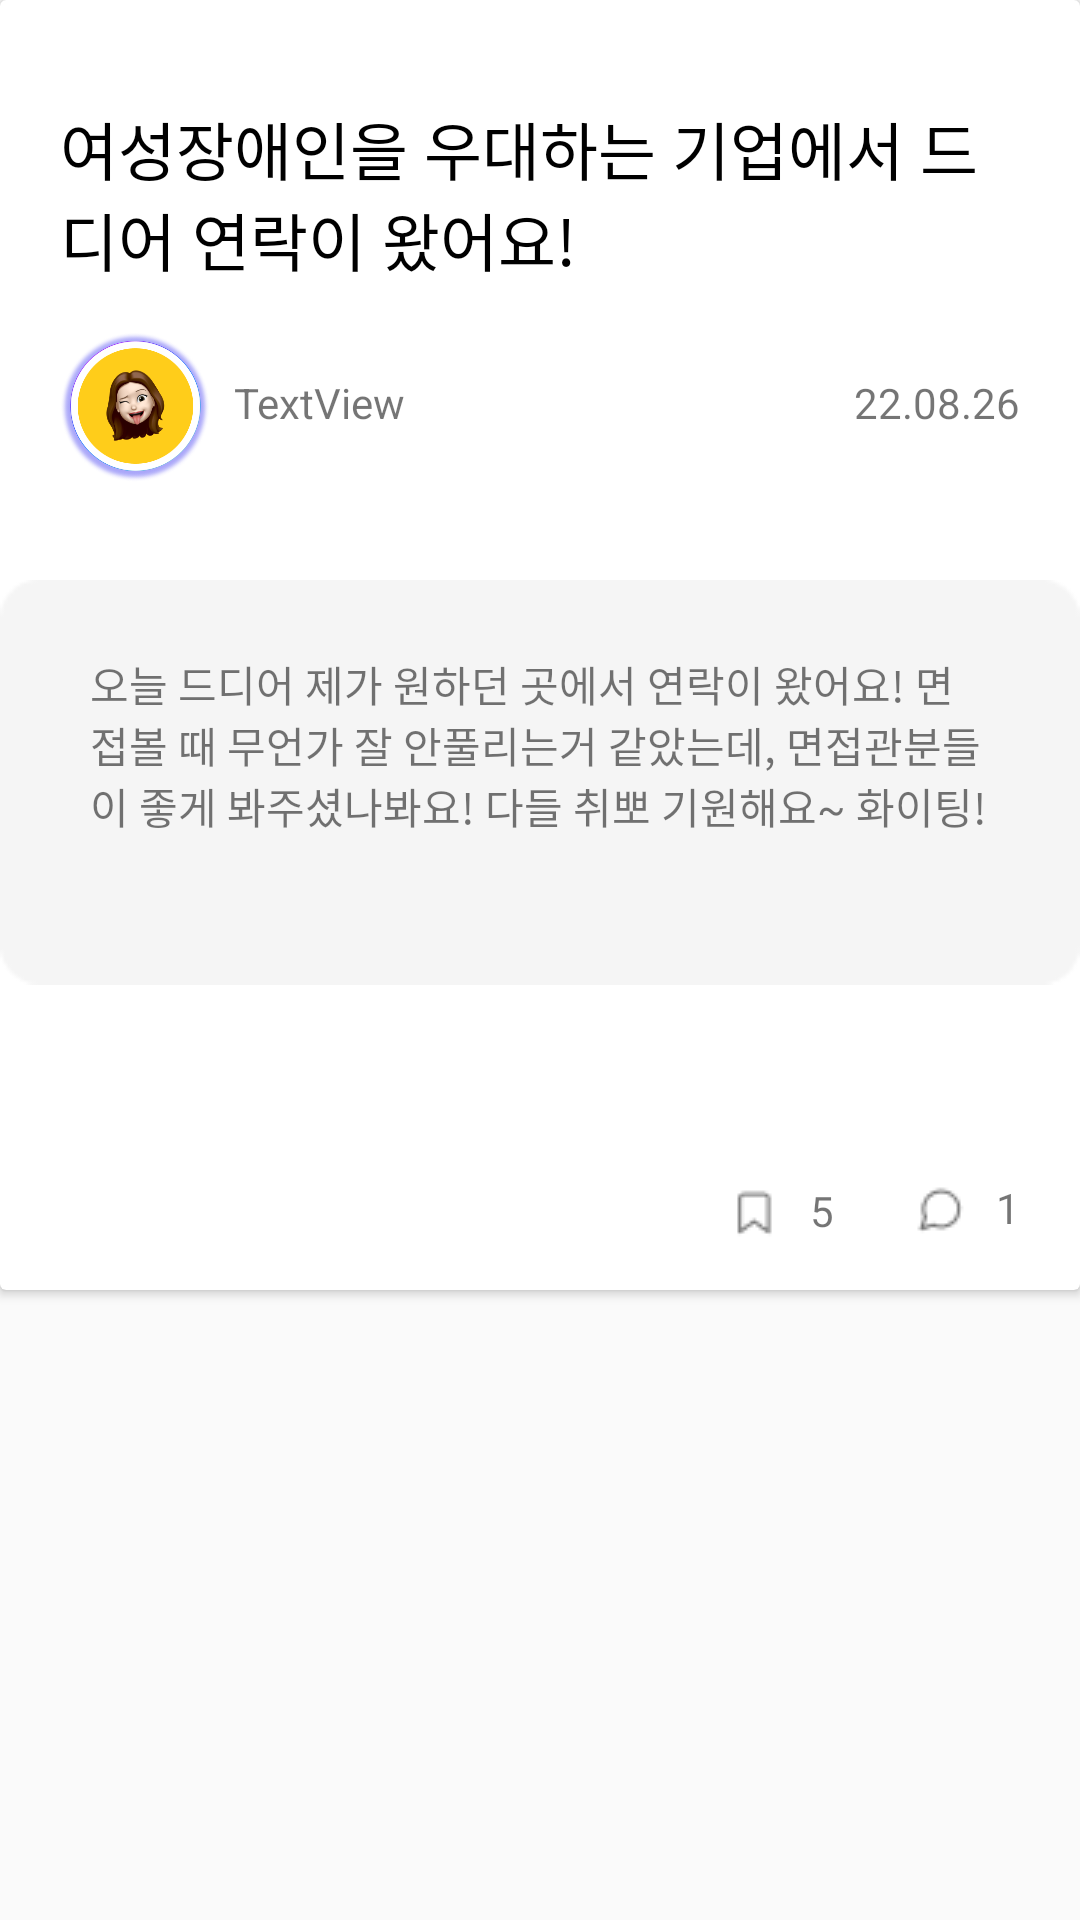

Icon bounding boxes for this 1080w x 1920h phone screenshot, format (x1,y1,x2,y2):
comment: (918,1188,961,1231)
profile go: (64,336,206,478)
scrap: (737,1191,772,1234)
